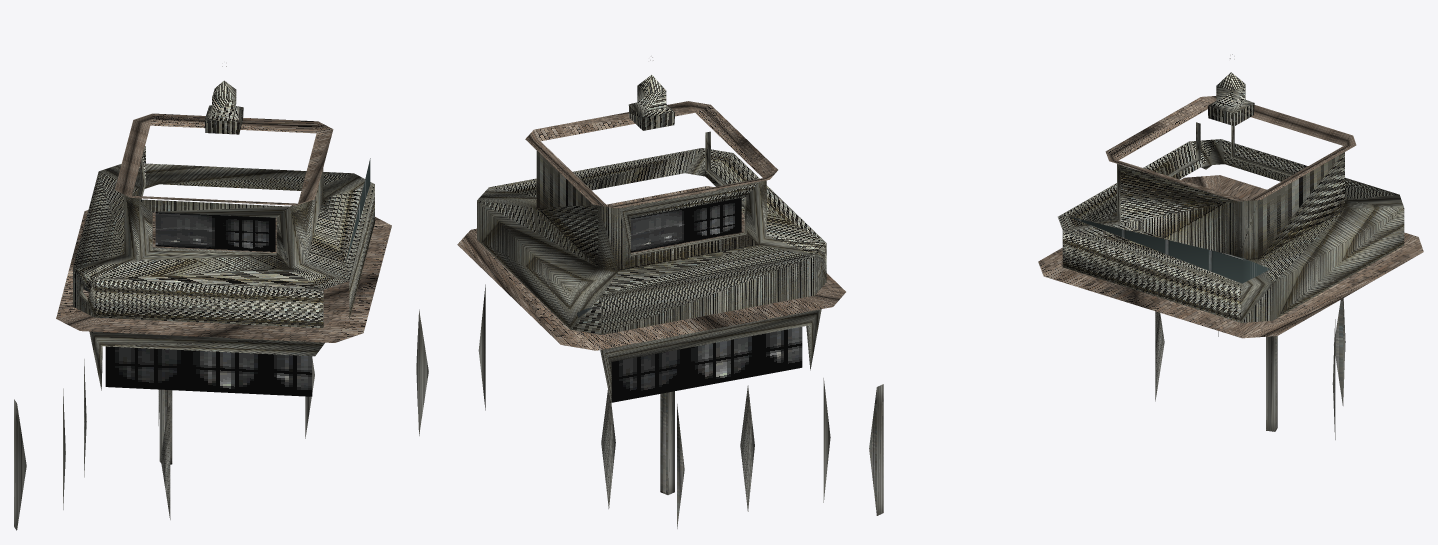
The model's file is world_camden_-17_-3.gltf.
The picture shows the model from 3 angles, left to right: view 1: azimuth 30°, elevation 25°; view 2: azimuth 150°, elevation 25°; view 3: azimuth 270°, elevation 25°; orthographic projection. The views are drawn at different scales.
Size of the model in its own units: 42.4 by 38.62 by 32.16.
7 materials, 7 textured.
